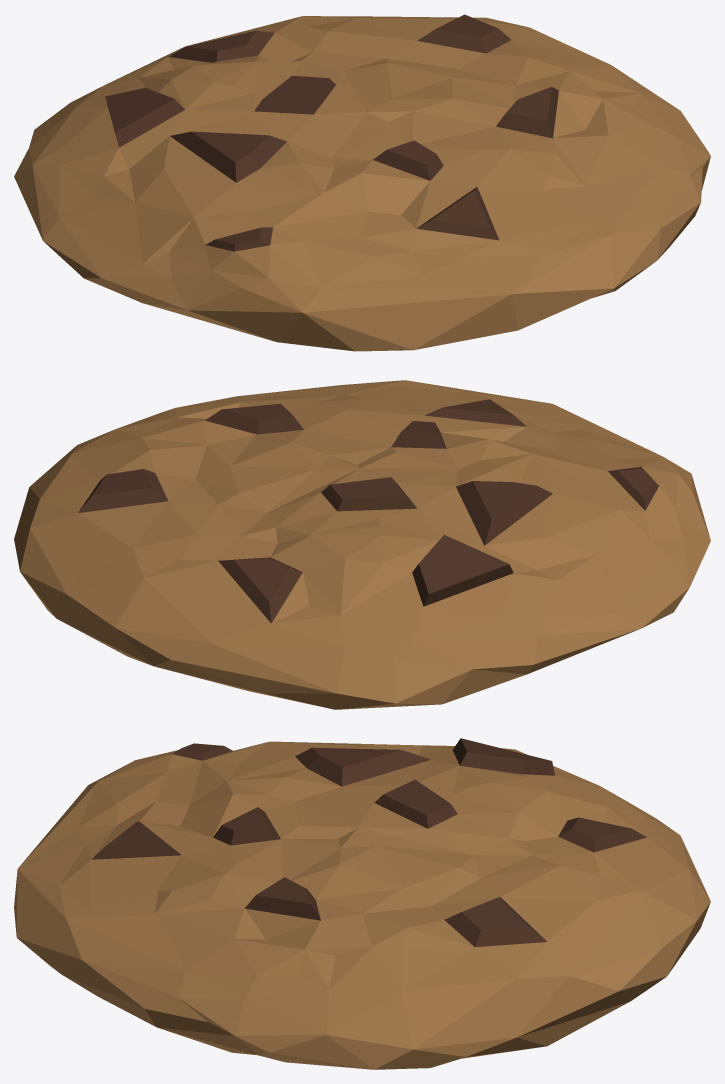
The model's file is Cookie.fbx.
The picture shows the model from 3 angles, top to bottom: view 1: azimuth 30°, elevation 25°; view 2: azimuth 150°, elevation 25°; view 3: azimuth 270°, elevation 25°; orthographic projection.
Parts seen in each view (by area): view 1: Cookie, ChocolateChips; view 2: Cookie, ChocolateChips; view 3: Cookie, ChocolateChips.
Part boxes in pixels (<box>): Cookie: <box>14,16,710,351</box>; ChocolateChips: <box>105,14,558,251</box>; Cookie: <box>14,380,710,709</box>; ChocolateChips: <box>78,399,658,623</box>; Cookie: <box>14,741,710,1069</box>; ChocolateChips: <box>92,738,646,947</box>.
Bounding box in the file's own units: 38.33 × 8.3 × 37.55.
